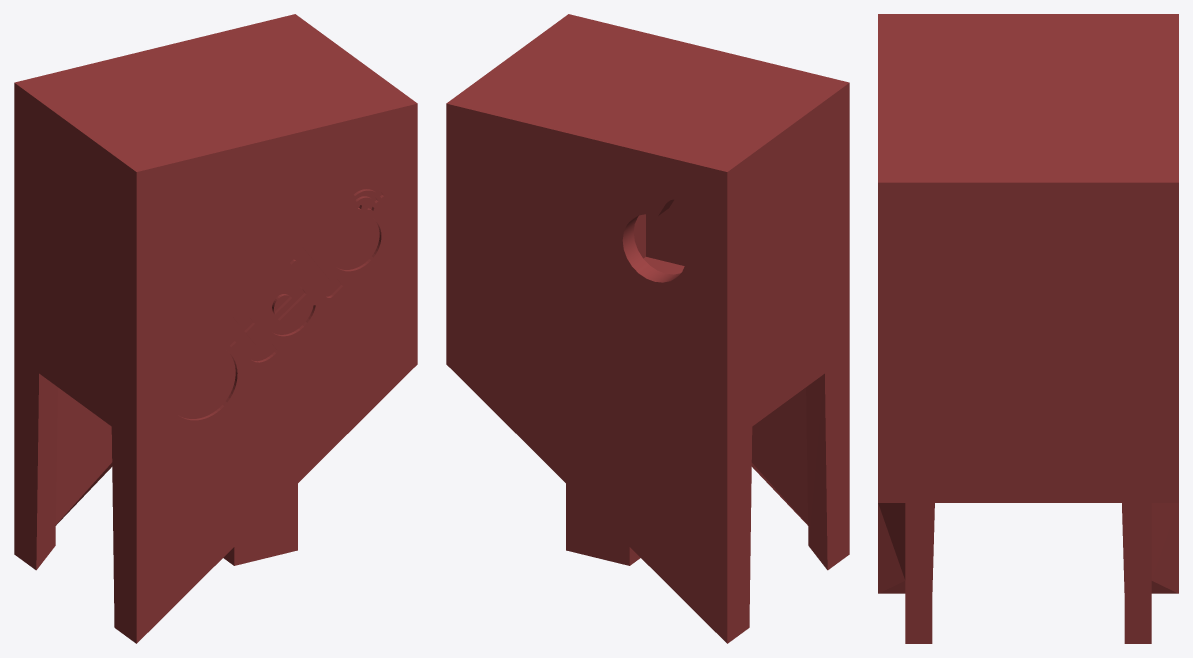
The model's file is housing-top.dae.
The picture shows the model from 3 angles, left to right: view 1: azimuth 30°, elevation 25°; view 2: azimuth 150°, elevation 25°; view 3: azimuth 270°, elevation 25°; orthographic projection. The views are drawn at different scales.
Parts seen in each view (by area): view 1: Seite_R (×6), group_0, group_6, group_4, group_3, group_12, group_10, group_2; view 2: group_4 (×2), group_0, group_6, Seite_R, group_10, group_11, group_3, group_2, group_14; view 3: group_1, group_0, group_4, Seite_R, group_11, group_12.
Boxes of the visible parts, x1,y1,x2,y2 form: Seite_R (×6): (125, 95, 417, 643); group_0: (25, 22, 406, 183); group_6: (25, 111, 125, 422); group_4: (14, 14, 305, 561); group_3: (25, 354, 57, 570); group_12: (223, 484, 297, 565); group_10: (111, 415, 125, 635); group_2: (25, 351, 125, 435); group_4 (×2): (446, 95, 738, 643); group_0: (457, 22, 838, 183); group_6: (738, 111, 838, 423); Seite_R: (558, 14, 849, 561); group_10: (806, 363, 838, 570); group_11: (566, 484, 640, 565); group_3: (738, 415, 752, 635); group_2: (738, 340, 838, 426); group_14: (646, 199, 689, 265); group_1: (905, 207, 1151, 502); group_0: (905, 14, 1151, 207); group_4: (1151, 14, 1178, 593); Seite_R: (878, 14, 905, 593); group_11: (1124, 503, 1151, 643); group_12: (905, 503, 932, 643).
Size of the model in its own units: 1.73 by 1.31 by 2.78.
